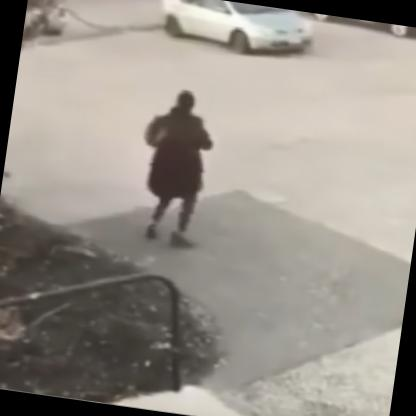Human Body: (124, 77, 224, 258)
